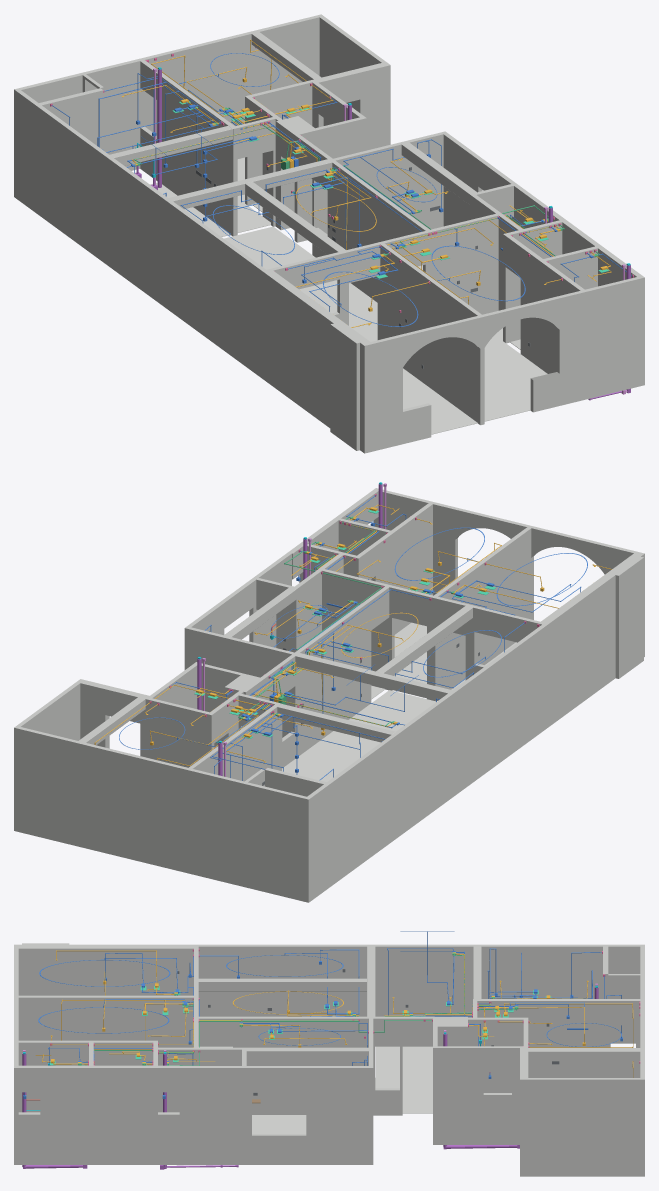
3 views of the same model, one above another, from view 1: azimuth 30°, elevation 25°; view 2: azimuth 150°, elevation 25°; view 3: azimuth 270°, elevation 25° (orthographic). The views are drawn at different scales.
Visible parts, largest first — view 1: layer-17, layer-15, layer-26, layer-6, layer-25, layer-27, layer-19, layer-33, layer-8, layer-5, layer-0, layer-28; view 2: layer-17, layer-15, layer-26, layer-6, layer-27, layer-25, layer-19, layer-33, layer-8, layer-5, layer-0; view 3: layer-17, layer-15, layer-26, layer-6, layer-27, layer-33, layer-25, layer-19, layer-8, layer-0, layer-28, layer-5 (+1 smaller).
Boxes of the visible parts, x1,y1,x2,y2 form: layer-17: (14,14,644,453); layer-15: (150,157,547,434); layer-26: (51,73,450,311); layer-6: (123,39,611,327); layer-25: (98,81,632,281); layer-27: (136,53,525,326); layer-19: (134,107,599,257); layer-33: (136,69,630,400); layer-8: (132,108,594,257); layer-5: (186,67,480,307); layer-0: (172,101,609,278); layer-28: (127,108,594,258); layer-17: (14,488,644,902); layer-15: (282,622,516,781); layer-26: (177,558,581,780); layer-6: (94,504,612,766); layer-27: (119,527,587,772); layer-25: (171,495,515,780); layer-19: (238,516,454,726); layer-33: (197,484,382,775); layer-8: (242,517,455,727); layer-5: (150,551,542,745); layer-0: (194,510,495,738); layer-17: (14,943,644,1176); layer-15: (198,1046,432,1133); layer-26: (103,931,621,1065); layer-6: (42,950,633,1077); layer-27: (38,931,622,1046); layer-33: (22,987,598,1169); layer-25: (24,948,592,1095); layer-19: (78,952,518,1065); layer-8: (78,952,517,1064); layer-0: (50,986,551,1065); layer-28: (78,951,518,1062); layer-5: (103,972,584,1044).
Size of the model in its own units: 9.06 by 3.96 by 17.71.
